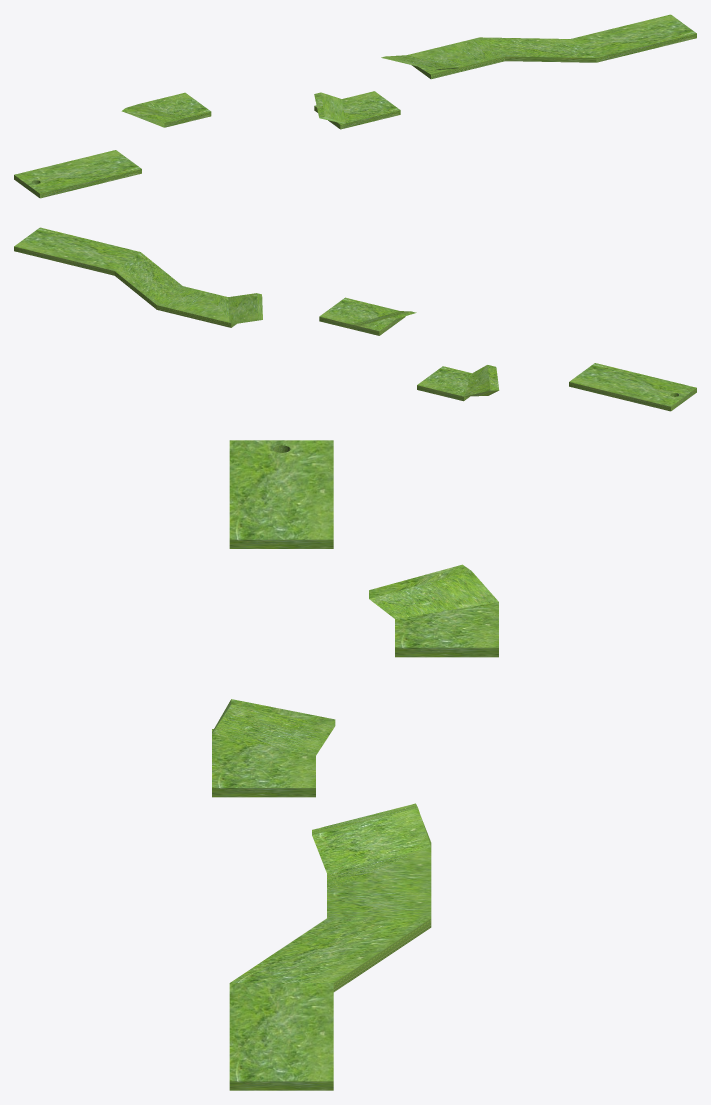
The model's file is lvl3track.fbx.
3 views of the same model, one above another, from view 1: azimuth 30°, elevation 25°; view 2: azimuth 150°, elevation 25°; view 3: azimuth 270°, elevation 25° (orthographic). The views are drawn at different scales.
Parts seen in each view (by area): view 1: Cube; view 2: Cube; view 3: Cube.
Boxes of the visible parts, box(x1,y1,x2,y2) form: Cube: box(14, 14, 696, 198); Cube: box(14, 227, 696, 411); Cube: box(212, 440, 498, 1090).
Bounding box in the file's own units: 14582 × 257 × 2760.
